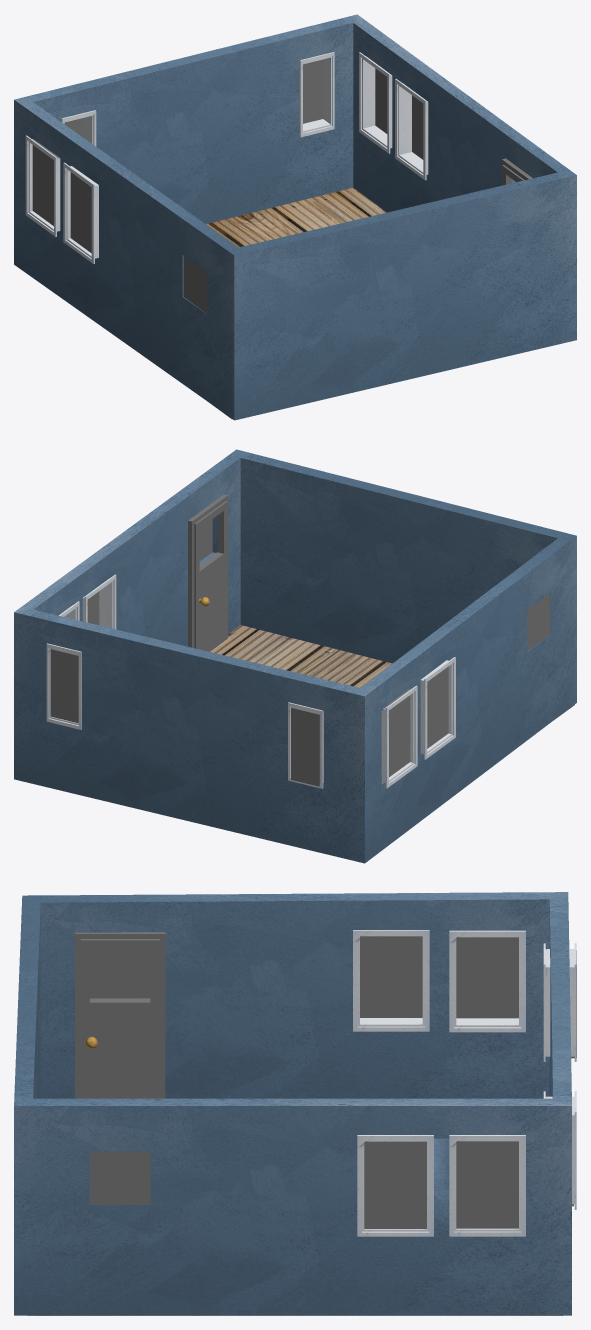
The model's file is room.fbx.
3 views of the same model, one above another, from view 1: azimuth 30°, elevation 25°; view 2: azimuth 150°, elevation 25°; view 3: azimuth 270°, elevation 25° (orthographic). The views are drawn at different scales.
Visible parts, largest first — view 1: Wall001, Plane001, FixedWindow004, FixedWindow003, FixedWindow002, FixedWindow006, Box001, FixedWindow001, Box010, Box007, Box015, Box012 (+2 smaller); view 2: Wall001, Plane001, PivotDoor001, Box013, Box007, FixedWindow002, FixedWindow001, Box001, Box010, FixedWindow004, FixedWindow006, Box015 (+1 smaller); view 3: Wall001, PivotDoor002, Box011, Box012, Box001, Box010, Box014, Box015, FixedWindow001, FixedWindow002, FixedWindow003, FixedWindow004 (+3 smaller).
Boxes of the visible parts, bbox=[...] form: Wall001: bbox=[14, 14, 576, 420]; Plane001: bbox=[206, 188, 386, 419]; FixedWindow004: bbox=[395, 78, 428, 180]; FixedWindow003: bbox=[359, 52, 392, 153]; FixedWindow002: bbox=[63, 162, 98, 264]; FixedWindow006: bbox=[299, 52, 334, 137]; Box001: bbox=[32, 139, 59, 225]; FixedWindow001: bbox=[25, 135, 60, 236]; Box010: bbox=[70, 172, 91, 252]; Box007: bbox=[303, 59, 323, 123]; Box015: bbox=[183, 256, 206, 313]; Box012: bbox=[375, 68, 387, 133]; Wall001: bbox=[14, 449, 576, 863]; Plane001: bbox=[210, 625, 574, 717]; PivotDoor001: bbox=[188, 494, 227, 651]; Box013: bbox=[291, 707, 320, 786]; Box007: bbox=[50, 649, 78, 723]; FixedWindow002: bbox=[420, 657, 455, 759]; FixedWindow001: bbox=[381, 685, 417, 788]; Box001: bbox=[384, 689, 410, 777]; Box010: bbox=[427, 666, 448, 748]; FixedWindow004: bbox=[82, 574, 116, 629]; FixedWindow006: bbox=[46, 643, 81, 729]; Box015: bbox=[527, 593, 550, 651]; Wall001: bbox=[14, 892, 571, 1315]; PivotDoor002: bbox=[75, 932, 165, 1098]; Box011: bbox=[364, 1141, 426, 1228]; Box012: bbox=[456, 1141, 518, 1228]; Box001: bbox=[456, 937, 518, 1018]; Box010: bbox=[360, 936, 422, 1017]; Box014: bbox=[90, 1151, 150, 1204]; Box015: bbox=[90, 948, 150, 998]; FixedWindow001: bbox=[449, 930, 525, 1032]; FixedWindow002: bbox=[353, 930, 429, 1031]; FixedWindow003: bbox=[449, 1135, 525, 1236]; FixedWindow004: bbox=[357, 1135, 433, 1236].
Bounding box in the file's own units: 225 × 99.82 × 243.
